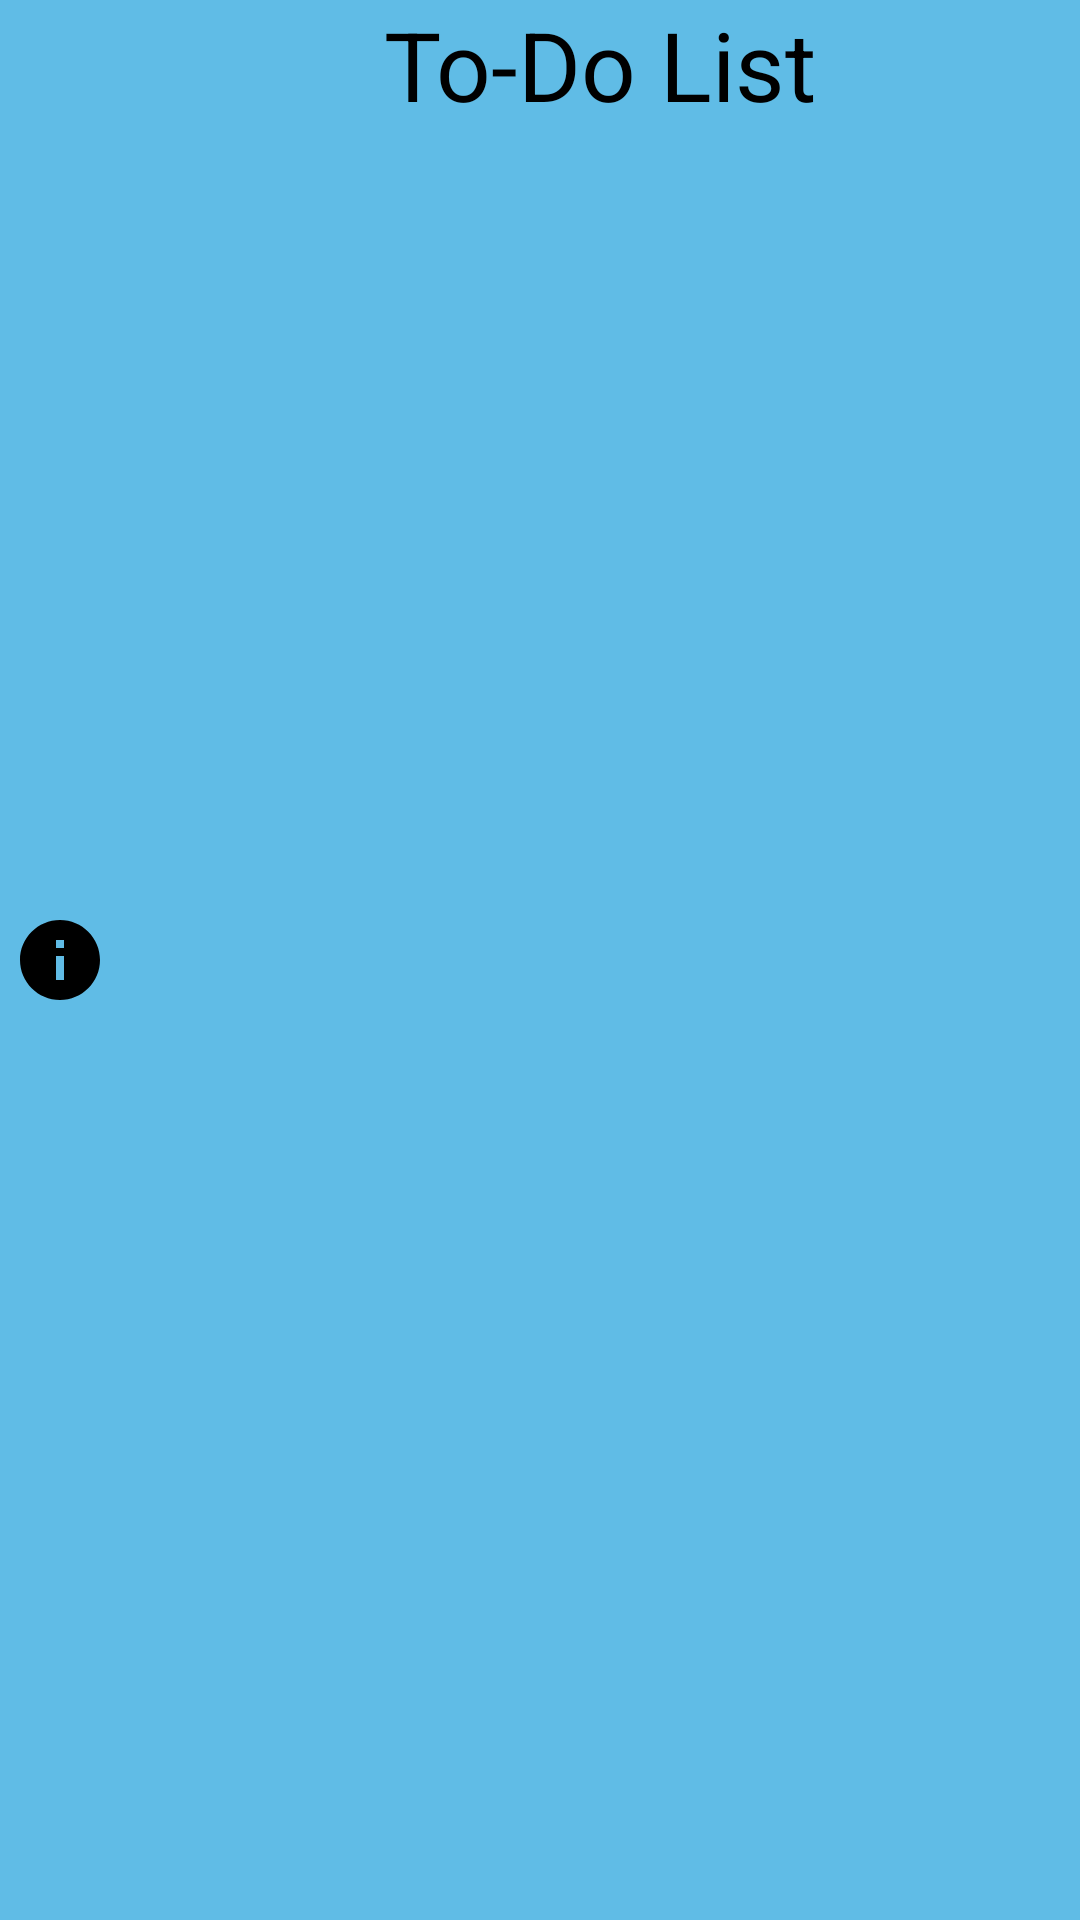

Icons on this 1080 x 1920 Android screen, each with the point to tap as point (x, y):
info: point (60, 960)
